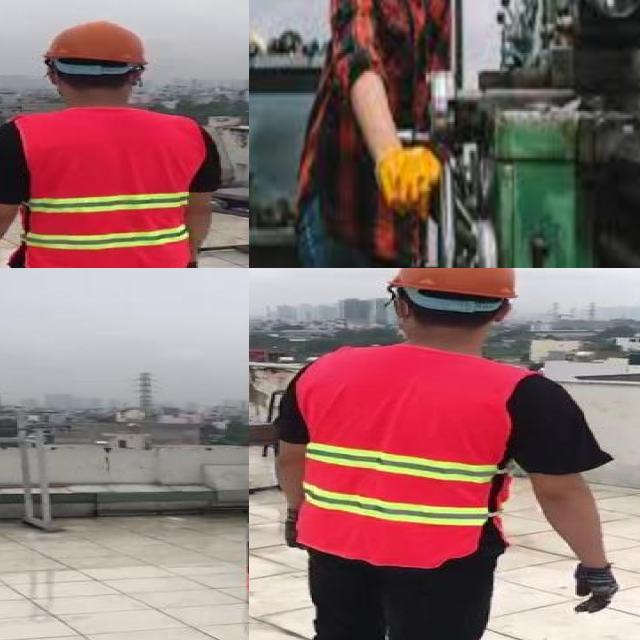hand_glove: (572, 564, 620, 615), (176, 258, 201, 268)
head_helmet: (40, 18, 152, 68), (378, 268, 526, 305)
person: (254, 268, 638, 640), (0, 18, 224, 268)
vest: (296, 352, 509, 567), (11, 110, 205, 268)
